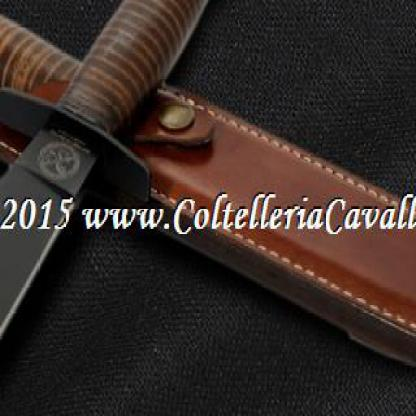knife: (0, 104, 104, 414)
